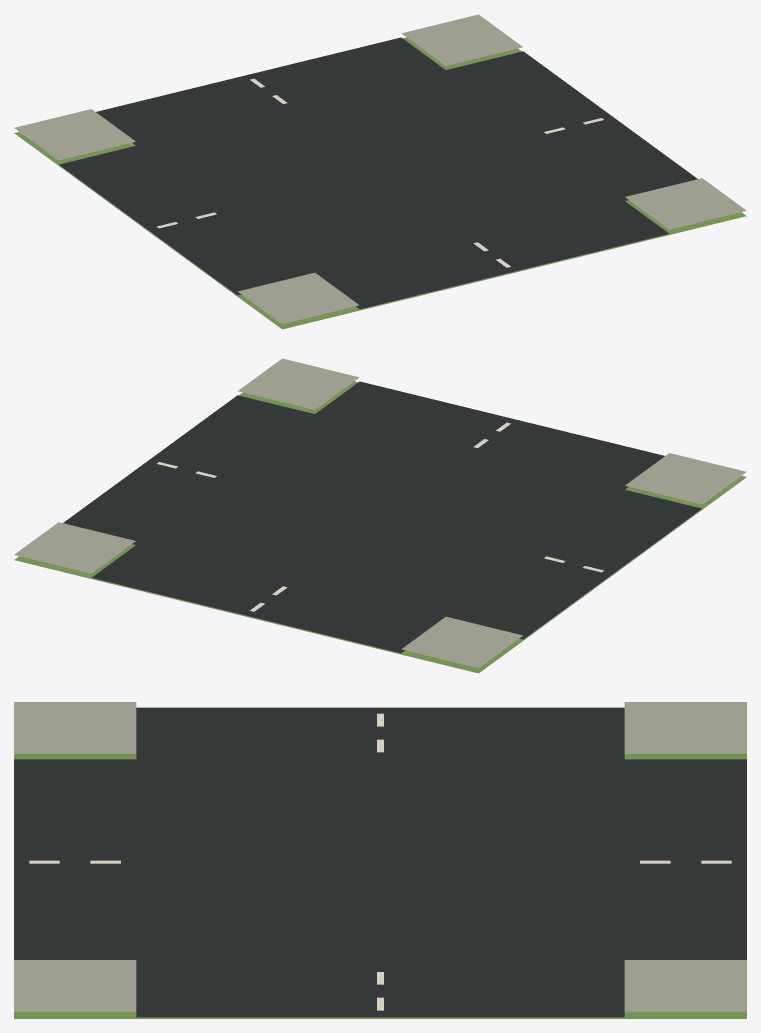
File: RoadCross.obj
3 renders of one model, top to bottom at view 1: azimuth 30°, elevation 25°; view 2: azimuth 150°, elevation 25°; view 3: azimuth 270°, elevation 25°, orthographic. The views are drawn at different scales.
Visible parts, largest first — view 1: RoadCross; view 2: RoadCross; view 3: RoadCross.
Part boxes in pixels (left/top/right/bottom): RoadCross: left=14, top=14, right=746, bottom=329; RoadCross: left=14, top=358, right=746, bottom=673; RoadCross: left=14, top=702, right=746, bottom=1018.
Size of the model in its own units: 12 by 0.13 by 12.
